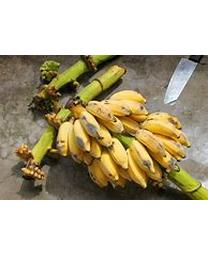banana: (54, 94, 192, 189)
